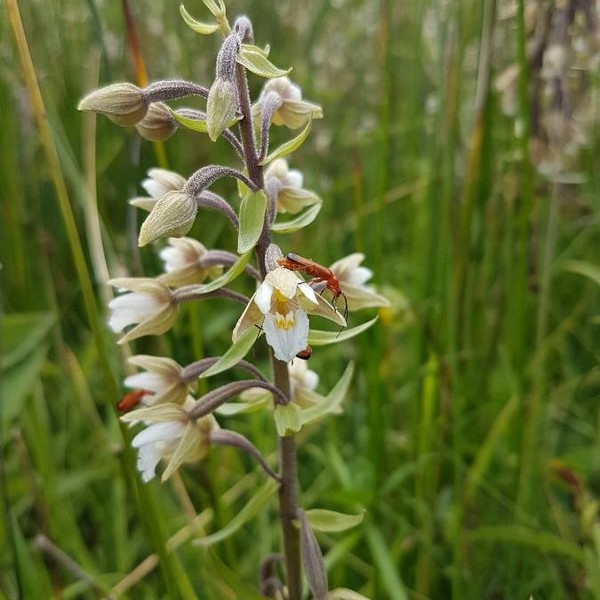obstacle: (92, 31, 381, 520)
